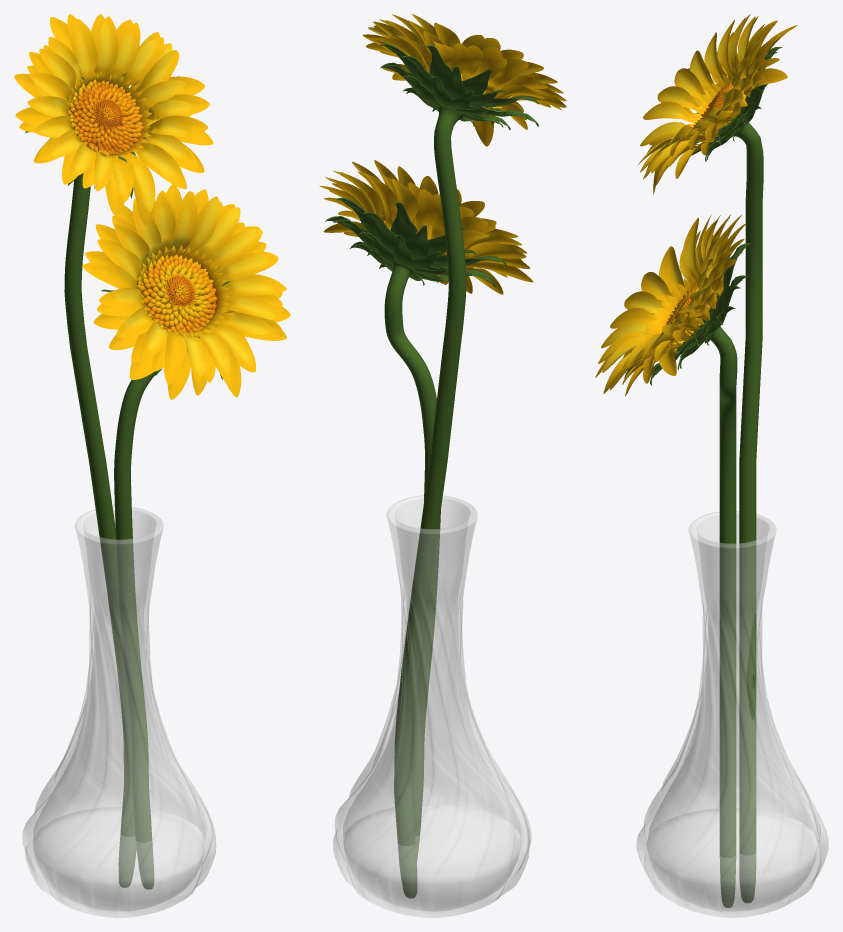
The model's file is sun.gltf.
The picture shows the model from 3 angles, left to right: view 1: azimuth 30°, elevation 25°; view 2: azimuth 150°, elevation 25°; view 3: azimuth 270°, elevation 25°; orthographic projection. The views are drawn at different scales.
Visible parts, largest first — view 1: a_flower_in_vase_171_flower, a_flower_in_vase_171_glass; view 2: a_flower_in_vase_171_flower, a_flower_in_vase_171_glass; view 3: a_flower_in_vase_171_flower, a_flower_in_vase_171_glass.
Part boxes in pixels (x1,y1,x2,y2): a_flower_in_vase_171_flower: (14,14,290,889); a_flower_in_vase_171_glass: (22,506,215,917); a_flower_in_vase_171_flower: (319,14,566,898); a_flower_in_vase_171_glass: (333,495,531,917); a_flower_in_vase_171_flower: (595,14,797,907); a_flower_in_vase_171_glass: (636,511,828,917).
Bounding box in the file's own units: 0.087 × 0.3 × 0.0733.
2 materials, 1 textured.
